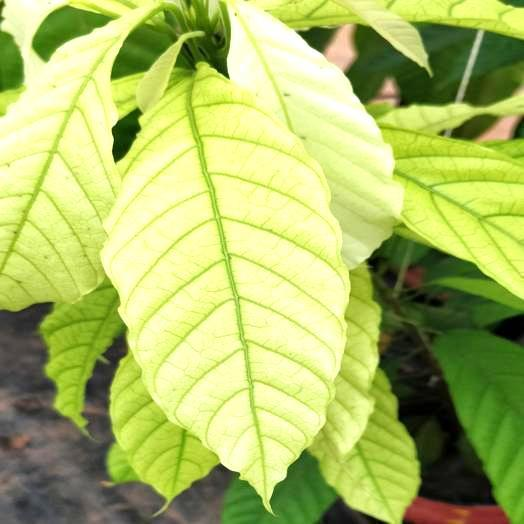Iron: (102, 64, 348, 509), (0, 6, 151, 310)
